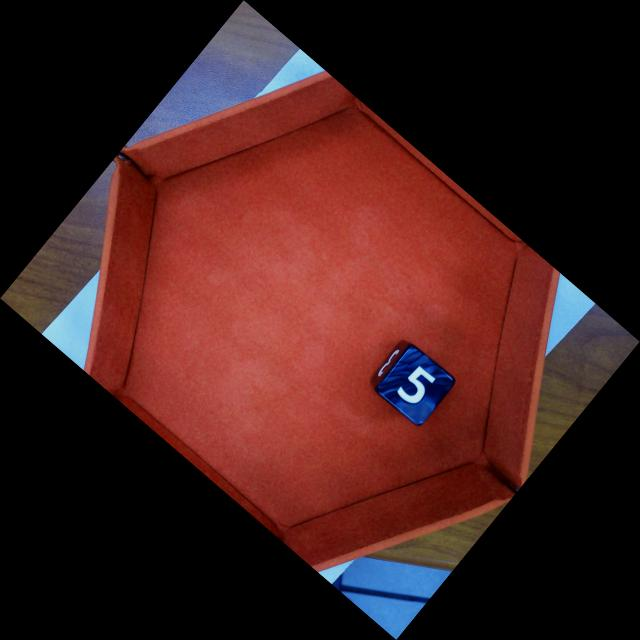dice: (382, 349, 452, 424)
